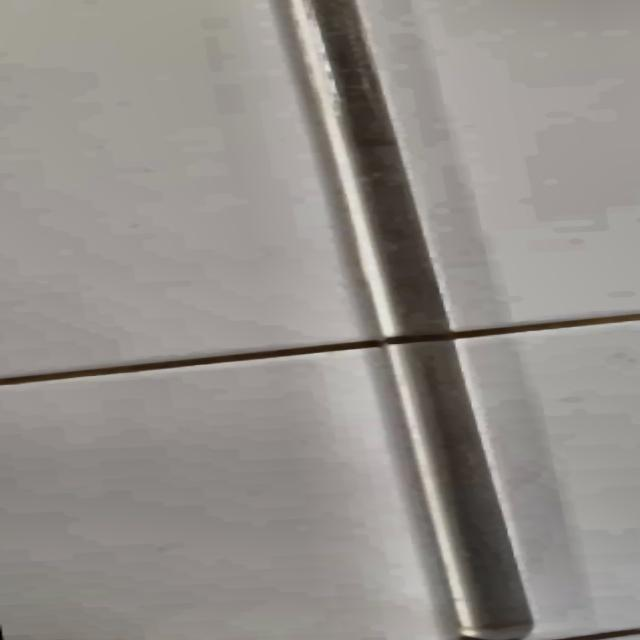Stirrer: (254, 0, 539, 640)
